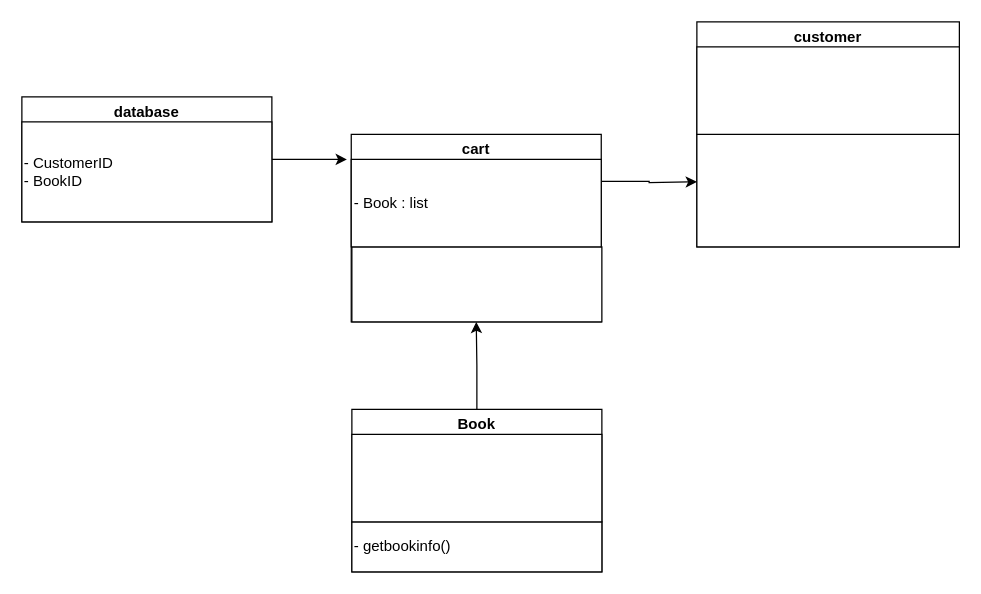
The diagram is 981 pixels wide and 594 high, and some of its shapes have lost their labels. Each missing label, with the box of its shape:
- Addbook() - RemoveBook(): (351, 246, 602, 322)
- BookID : string - price : string - Authorname : string - Title : string: (351, 433, 602, 522)
- Name : string - CustomerID : string: (696, 46, 959, 134)
- SelectBook() - RemoveBook() - ViewBook() - Checkcart() - CheckOut(): (696, 133, 959, 247)
